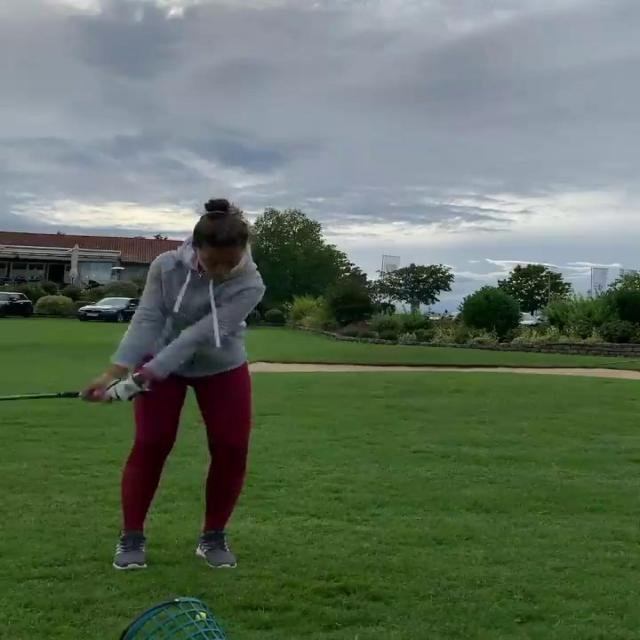ClubHandle: (0, 387, 150, 405)
